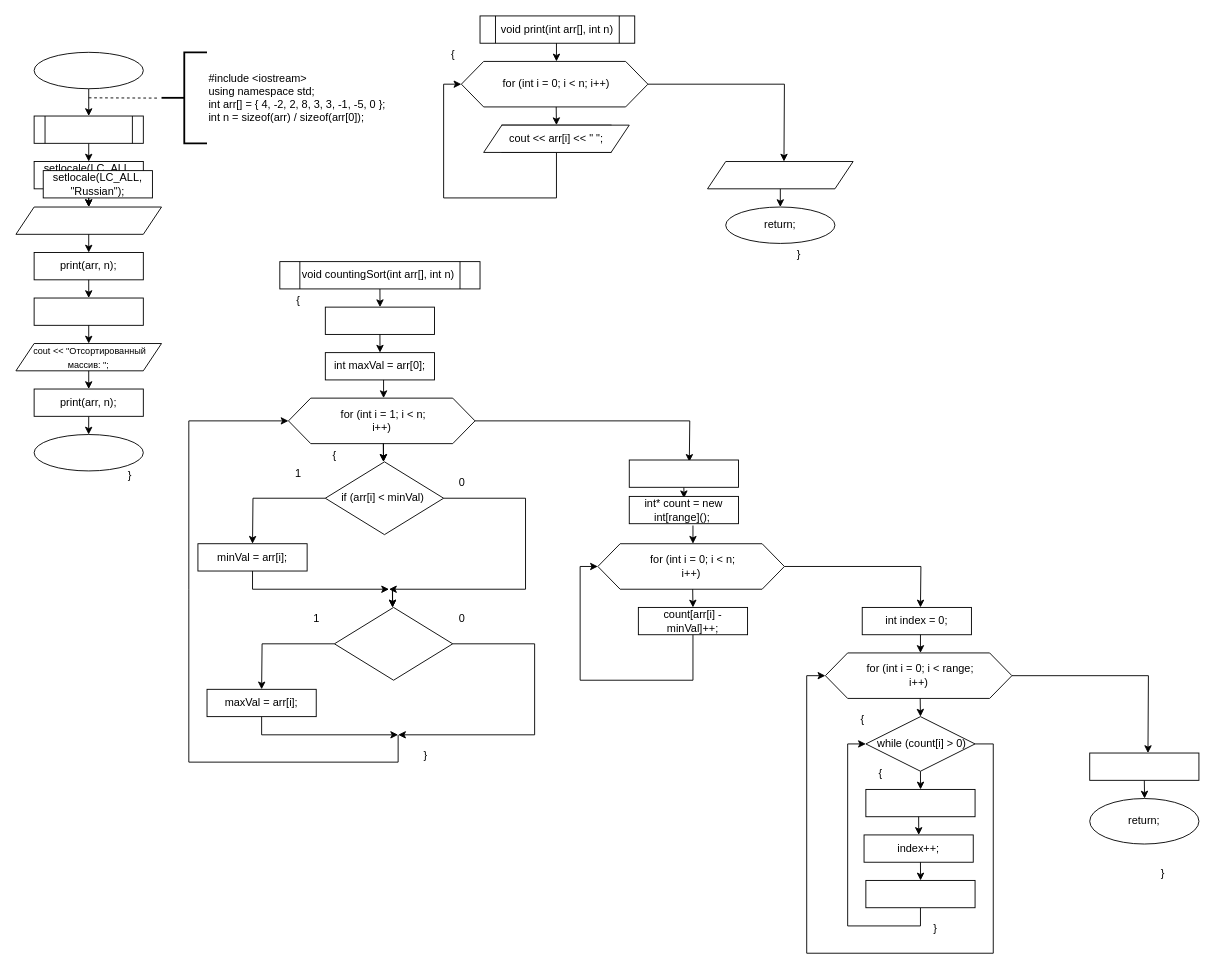
Some shapes in this 1215 by 976 pixel diagram are drawn without their labels. The centre of each missing label's shape, as x and y in pixels:
arr[index] = i + minVal;: pixel 920 803
count[i]--;: pixel 920 894
countingSort(arr, n);: pixel 88 311
cout << "Исходный массив: ";: pixel 88 220
cout << endl;: pixel 780 175
delete[] count;: pixel 1144 766
if (arr[i] > maxVal): pixel 393 643
int main(): pixel 88 129
int minVal = arr[0];: pixel 379 320
int range = maxVal - minVal + 1;: pixel 683 473
return 0;: pixel 88 452
Начало: pixel 88 70
